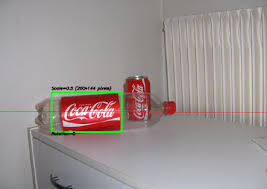Coca-Cola: (51, 93, 125, 132), (124, 78, 153, 118)
